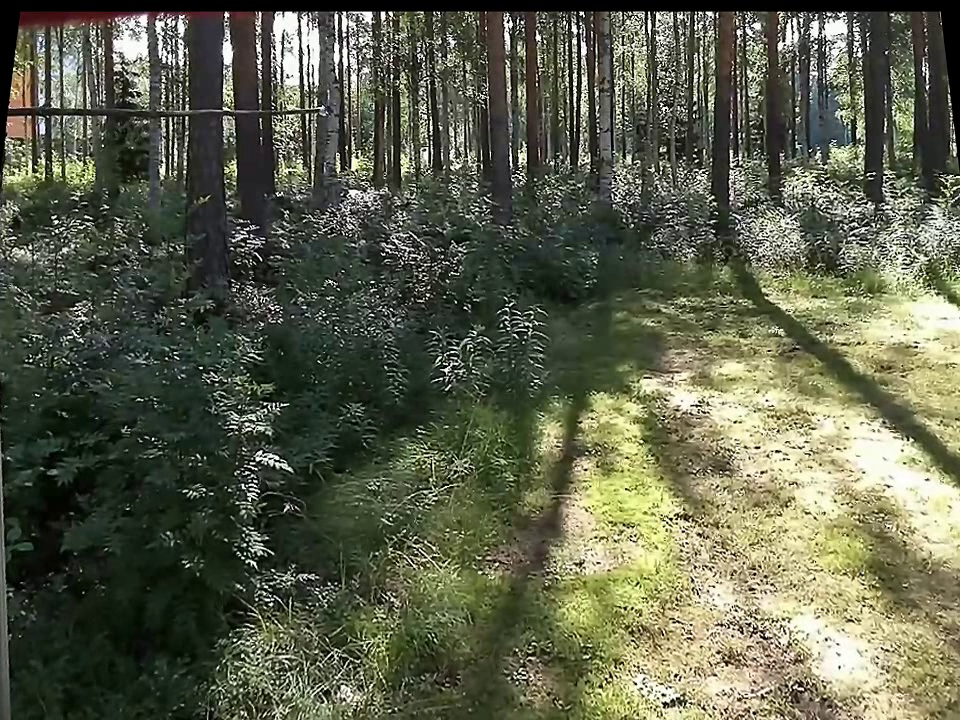branch: (7, 94, 311, 129)
